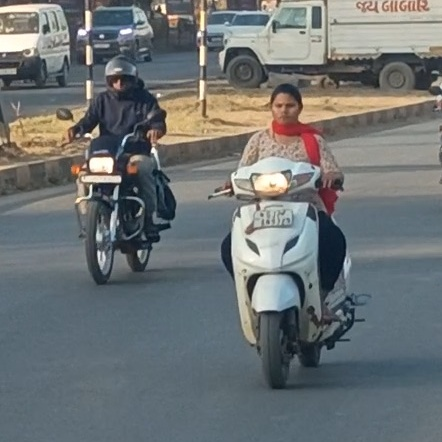BikeWithRider: (205, 79, 377, 396), (52, 51, 181, 288)
Helmet: (101, 50, 144, 99)
NoHelmet: (263, 79, 309, 132)
